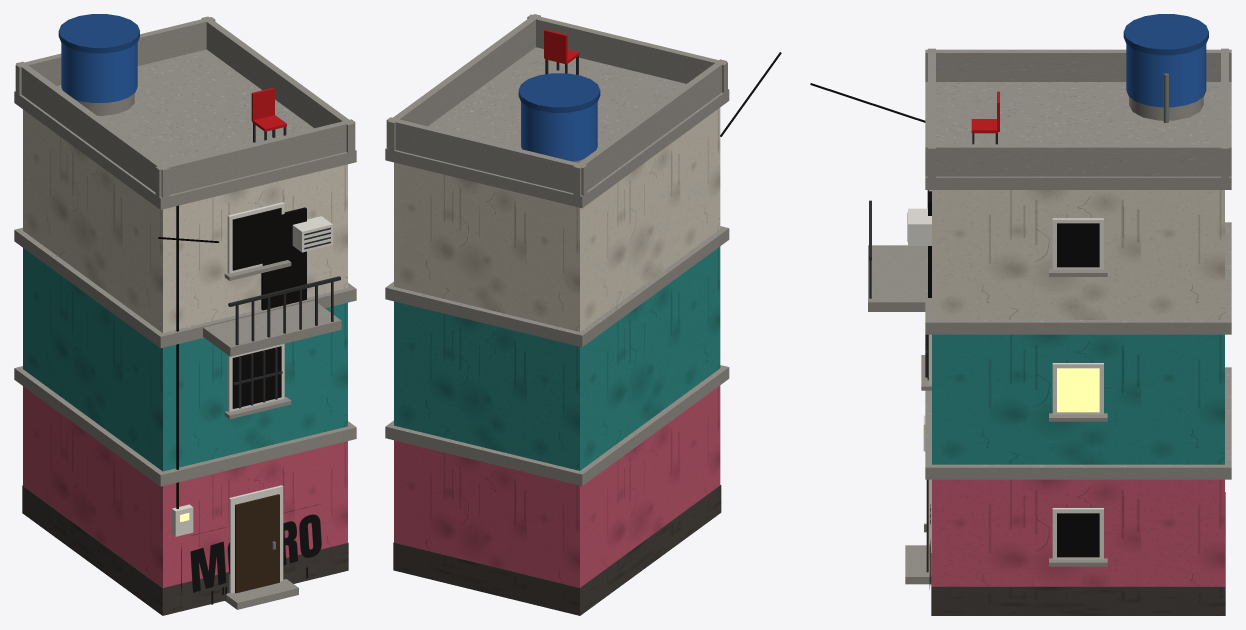
The model's file is favela-rosa.glb.
The picture shows the model from 3 angles, left to right: view 1: azimuth 30°, elevation 25°; view 2: azimuth 150°, elevation 25°; view 3: azimuth 270°, elevation 25°; orthographic projection. The views are drawn at different scales.
Parts seen in each view (by area): view 1: rosa_piso_1, rosa_piso_2, rosa_piso_0, rosa_losa_2, rosa_zocalo, rosa_pretil_0, rosa_losa_0, rosa_pretil_l_1, rosa_pretil_l_0, rosa_losa_1, rosa_puerta_hoja, rosa_balcon_losa (+20 smaller); view 2: rosa_piso_1, rosa_piso_2, rosa_piso_0, rosa_losa_2, rosa_zocalo, rosa_pretil_1, rosa_losa_1, rosa_losa_0, rosa_pretil_0, rosa_pretil_l_1, rosa_pretil_l_0, rosa_caixa_cuerpo (+2 smaller); view 3: rosa_piso_1, rosa_piso_2, rosa_piso_0, rosa_losa_2, rosa_pretil_l_0, rosa_zocalo, rosa_pretil_l_1, rosa_losa_0, rosa_losa_1, rosa_caixa_cuerpo, rosa_balcon_losa, rosa_caixa_tapa (+11 smaller).
Boxes of the visible parts, x1,y1,x2,y2 form: rosa_piso_1: (23,248,347,471); rosa_piso_2: (23,109,347,332); rosa_piso_0: (23,386,347,587); rosa_losa_2: (14,49,356,209); rosa_zocalo: (22,485,348,615); rosa_pretil_0: (155,119,355,197); rosa_losa_0: (14,366,356,486); rosa_pretil_l_1: (16,61,169,197); rosa_pretil_l_0: (201,16,354,152); rosa_losa_1: (14,227,356,348); rosa_puerta_hoja: (235,494,279,593); rosa_balcon_losa: (203,300,341,356); rosa_piso_1: (394,246,720,470); rosa_piso_2: (394,107,720,331); rosa_piso_0: (394,385,720,587); rosa_losa_2: (385,47,729,208); rosa_zocalo: (393,485,721,615); rosa_pretil_1: (386,117,587,195); rosa_losa_1: (385,226,729,347); rosa_losa_0: (385,365,729,485); rosa_pretil_0: (527,14,727,92); rosa_pretil_l_1: (573,59,726,195); rosa_pretil_l_0: (387,14,540,150); rosa_caixa_cuerpo: (521,102,597,161); rosa_piso_1: (932,334,1224,464); rosa_piso_2: (932,190,1224,319); rosa_piso_0: (932,479,1224,586); rosa_losa_2: (925,82,1231,189); rosa_pretil_l_0: (925,144,1231,176); rosa_zocalo: (931,492,1225,615); rosa_pretil_l_1: (925,49,1231,81); rosa_losa_0: (925,367,1231,479); rosa_losa_1: (925,222,1231,334); rosa_caixa_cuerpo: (1126,44,1206,107); rosa_balcon_losa: (868,245,925,311); rosa_caixa_tapa: (1123,14,1208,55).
Size of the model in its own units: 4.52 by 10.65 by 7.9.
Materials: 17 (6 with a texture image).
